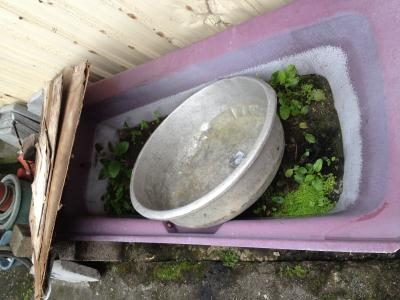bowl: (125, 70, 288, 232)
tub: (58, 1, 400, 254)
